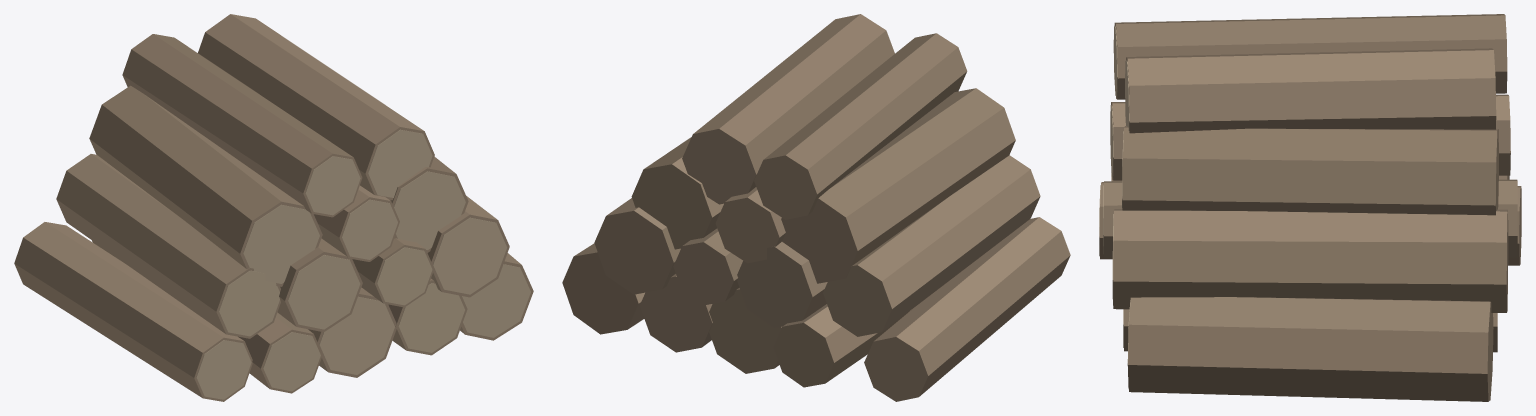
Rendered from camp_firewood_a.glb.
3 renders of one model, left to right at view 1: azimuth 30°, elevation 25°; view 2: azimuth 150°, elevation 25°; view 3: azimuth 270°, elevation 25°, orthographic. The views are drawn at different scales.
Parts seen in each view (by area): view 1: body; view 2: body; view 3: body.
Part boxes in pixels (bbox=[...]): body: bbox=[14, 14, 533, 401]; body: bbox=[562, 14, 1070, 401]; body: bbox=[1099, 14, 1521, 401].
Size of what is drawn, in the model's own units: 0.6509 by 0.399 by 0.5415.
